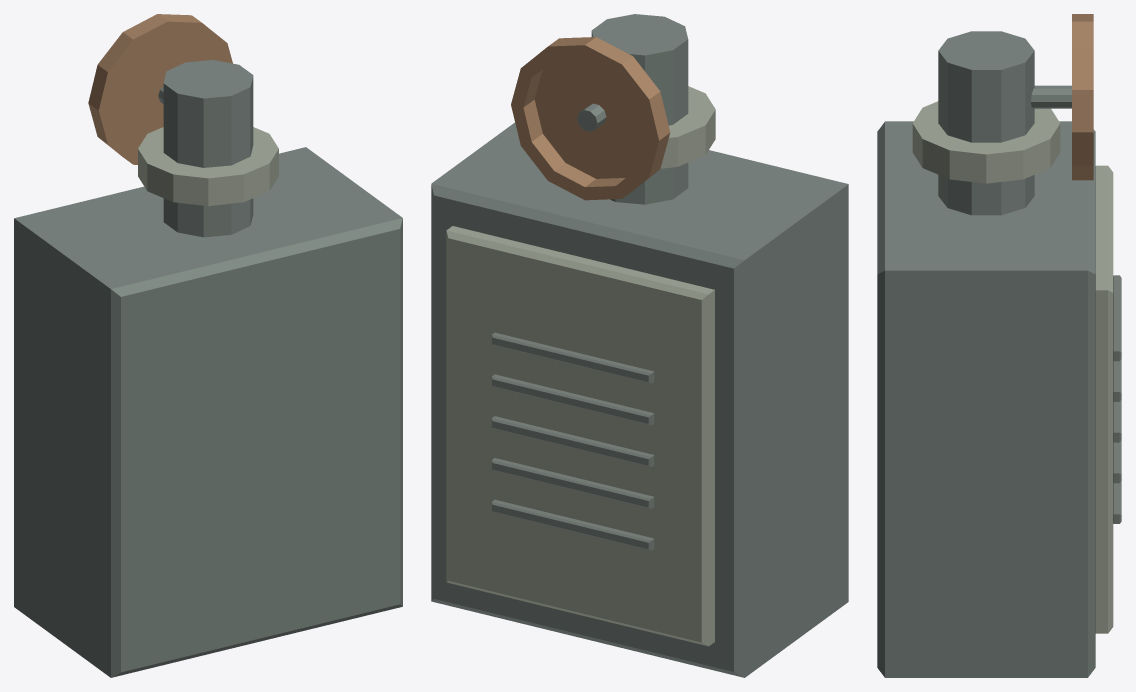
File: PipeEnd.fbx
3 views of the same model, side by side, from view 1: azimuth 30°, elevation 25°; view 2: azimuth 150°, elevation 25°; view 3: azimuth 270°, elevation 25° (orthographic). The views are drawn at different scales.
Visible parts, largest first — view 1: Equipment__Steel, ValveWheel__Rust, Equipment__WornSteel; view 2: Equipment__Steel, Equipment__WornSteel, ValveWheel__Rust, VentSlots__ConcreteDark; view 3: Equipment__Steel, Equipment__WornSteel, ValveWheel__Rust, VentSlots__ConcreteDark.
Boxes of the visible parts, x1,y1,x2,y2 form: Equipment__Steel: (14, 60, 402, 677); ValveWheel__Rust: (88, 14, 232, 164); Equipment__WornSteel: (138, 127, 278, 206); Equipment__Steel: (431, 14, 848, 677); Equipment__WornSteel: (446, 86, 715, 646); ValveWheel__Rust: (511, 37, 670, 200); VentSlots__ConcreteDark: (492, 332, 654, 550); Equipment__Steel: (877, 31, 1095, 677); Equipment__WornSteel: (912, 101, 1113, 633); ValveWheel__Rust: (1072, 14, 1093, 180); VentSlots__ConcreteDark: (1113, 275, 1121, 523).
Bounding box in the file's own units: 0.55 × 1 × 0.3805.
